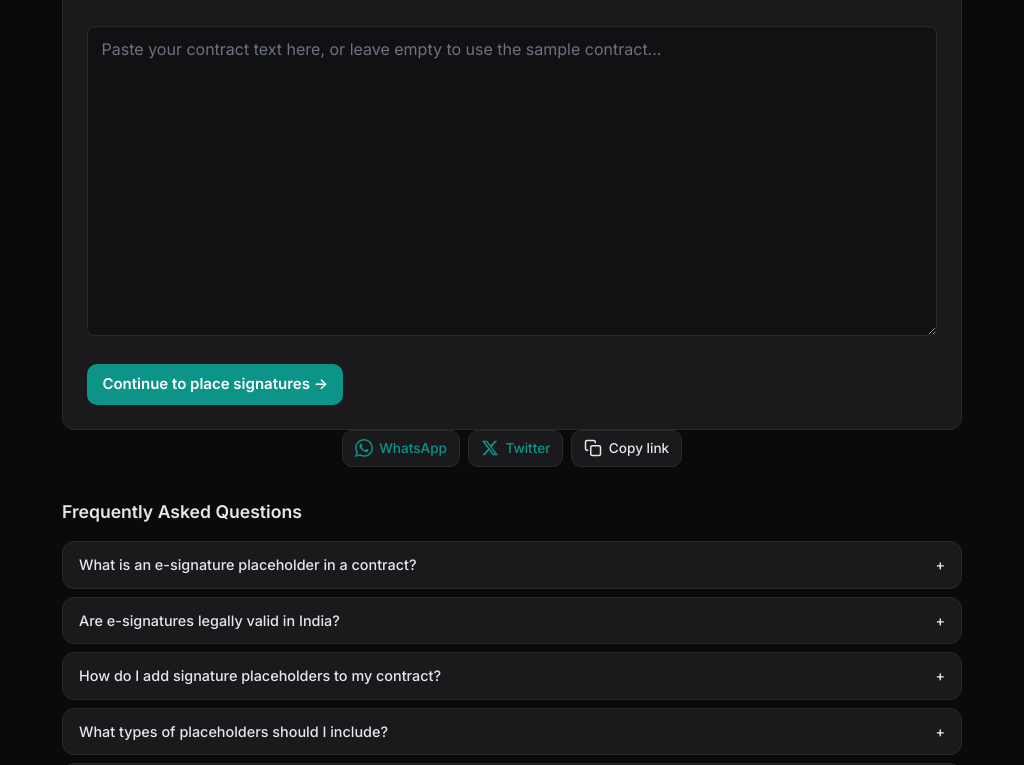
ESignaturePlaceholderPage › can go back to edit mode
(page scrolled)
Click the button "Continue to place signatures →".
click(215, 385)  # box [87, 364, 343, 405]
(page scrolled)
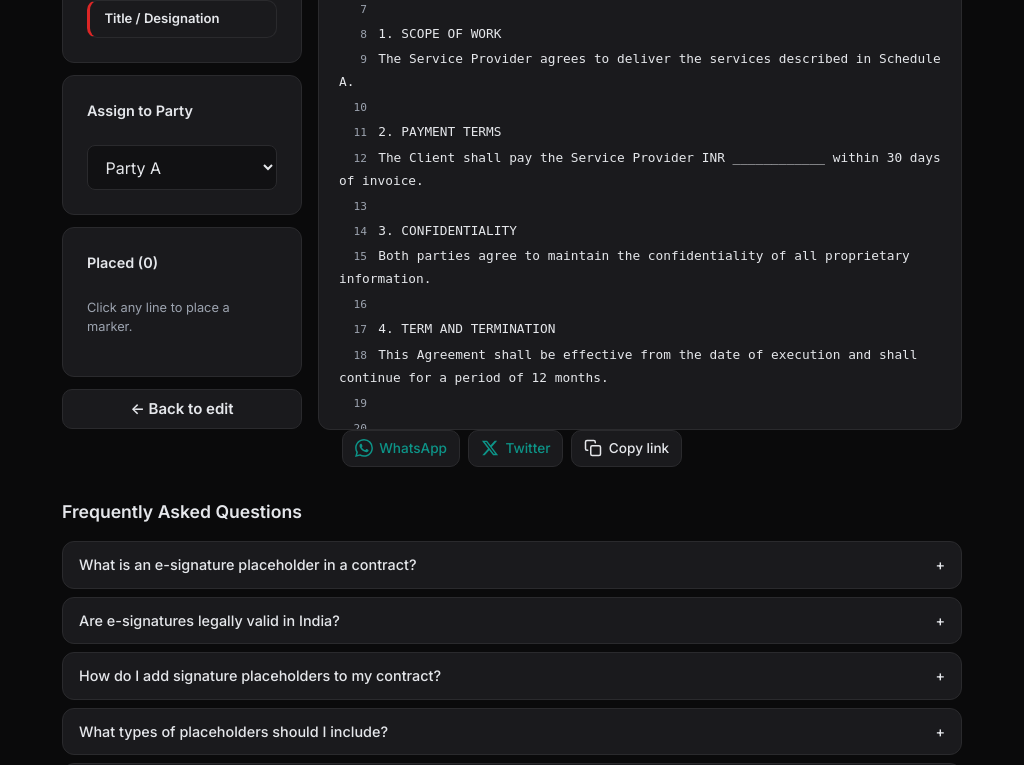
Click the button "← Back to edit".
click(182, 410)  # box [62, 389, 302, 430]
(page scrolled)
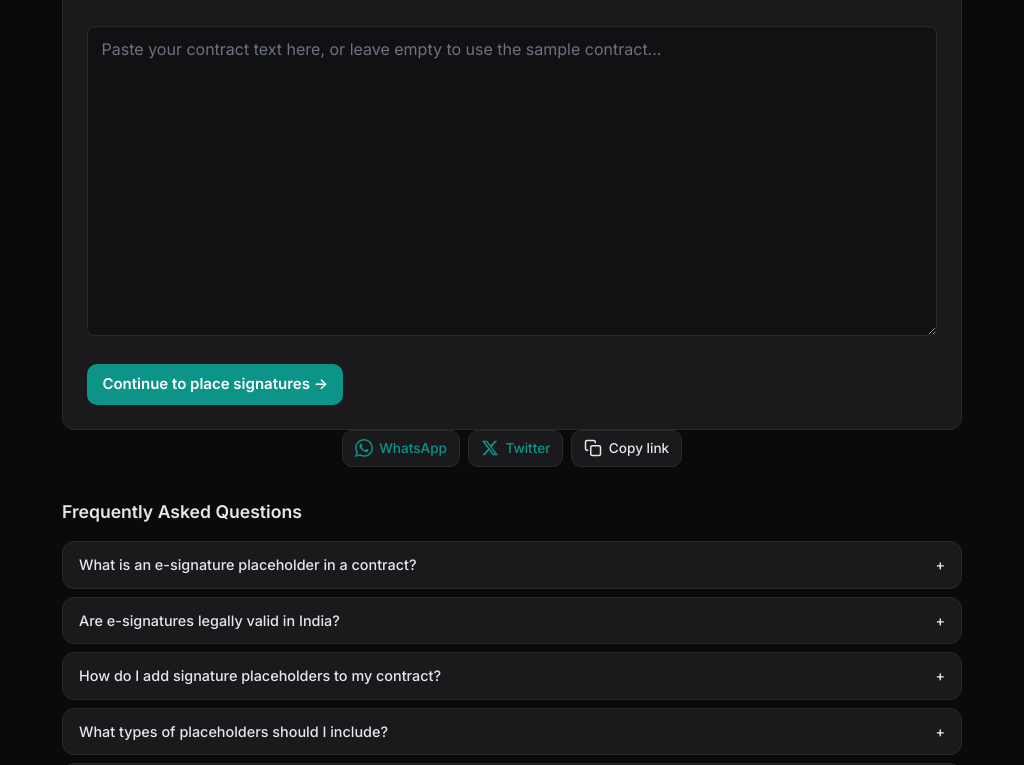
Result: the text box labelled "contract text" is shown at [87, 26, 937, 336]
